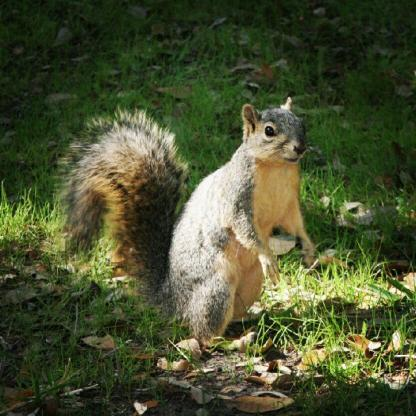Squirrel: (45, 93, 315, 345)
